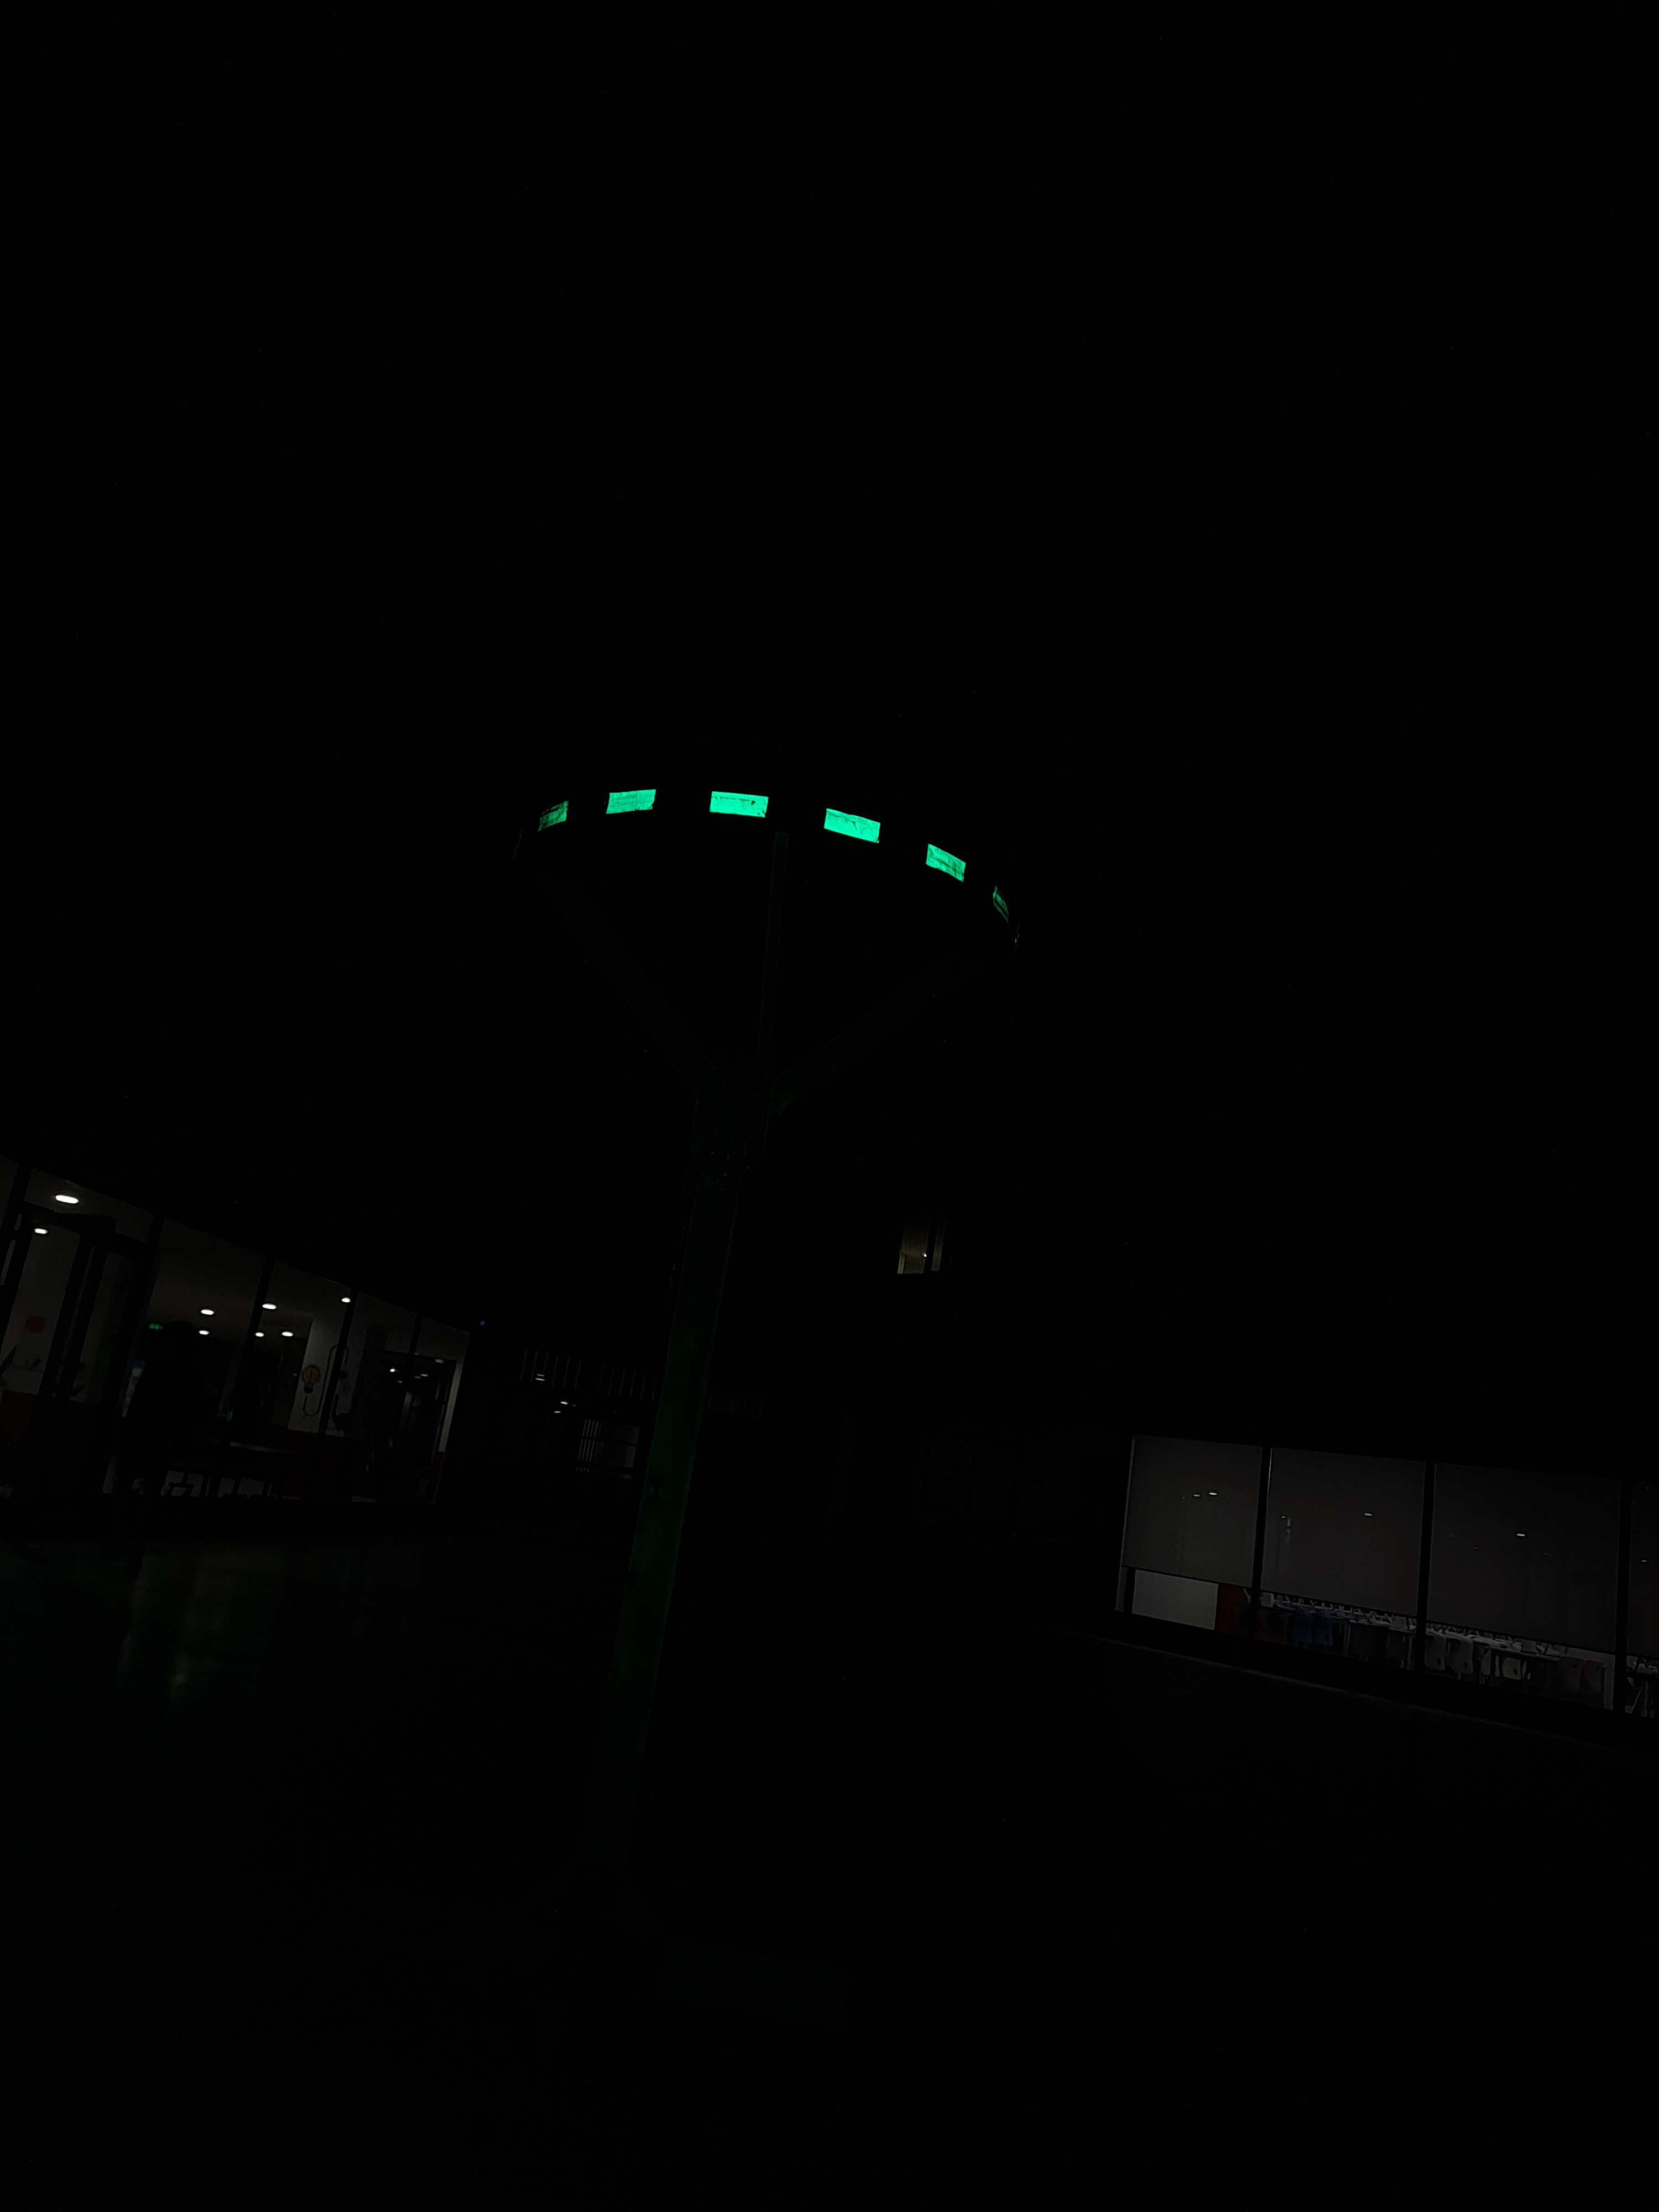hoop: (530, 766, 972, 895)
